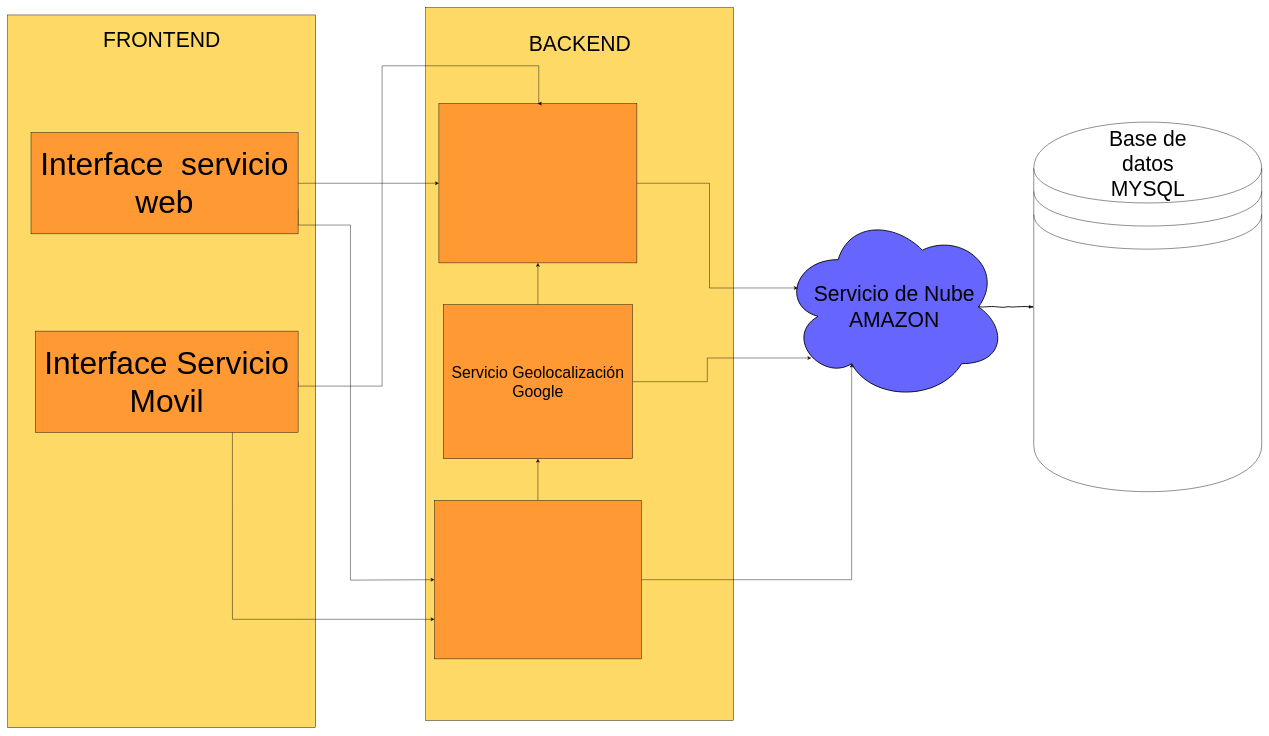
Some shapes in this 1269 by 736 pixel diagram are drawn without their labels. Each missing label, with the centre of its shape:
"Dervicio optimizacion de Ruta" belongs at point (537, 579).
"Servicio Filtrado Pacientes" belongs at point (537, 183).
